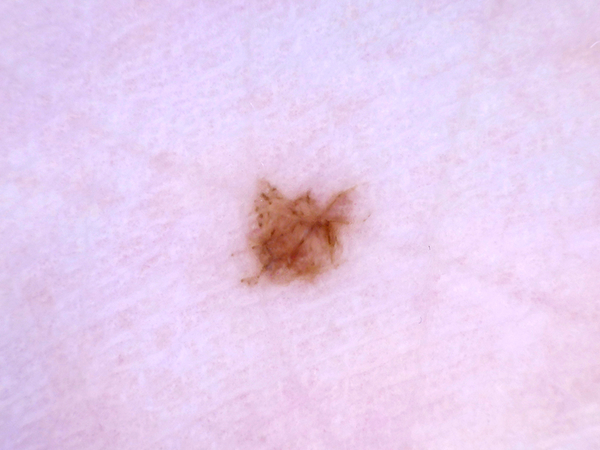Detected Lesion: (235, 174, 362, 292)
